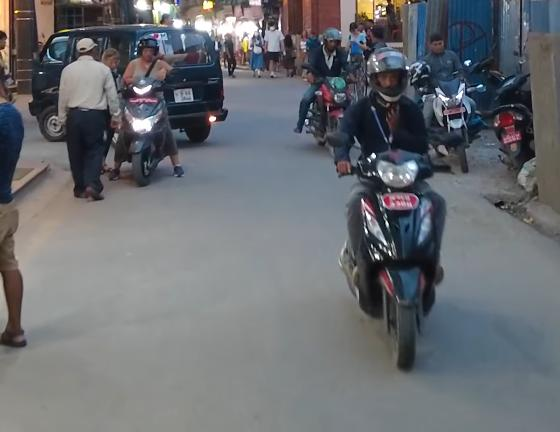scooter: (334, 139, 451, 380), (115, 70, 170, 187)
van: (25, 18, 226, 148)
